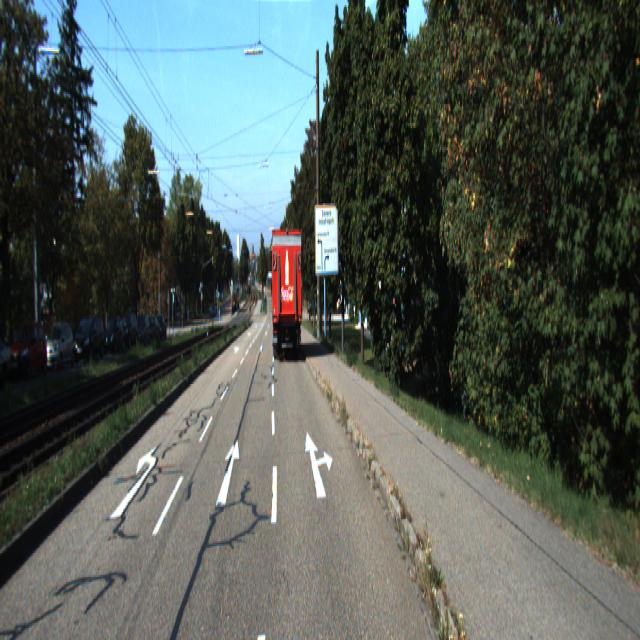Car: (271, 228, 305, 364), (9, 319, 49, 381), (44, 323, 77, 373), (76, 319, 110, 367), (102, 319, 127, 357), (0, 326, 15, 386)
